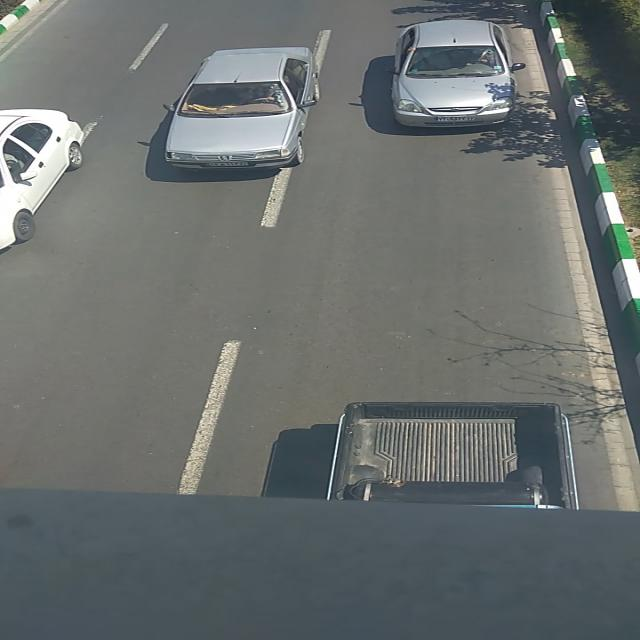car: (326, 400, 577, 508), (162, 46, 322, 170), (388, 19, 524, 127), (0, 107, 83, 251)
